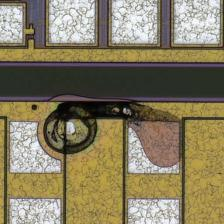BLOCK ETCH: (31, 89, 200, 173)
